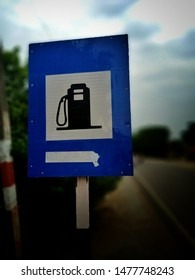fuel-station: (30, 38, 130, 174)
